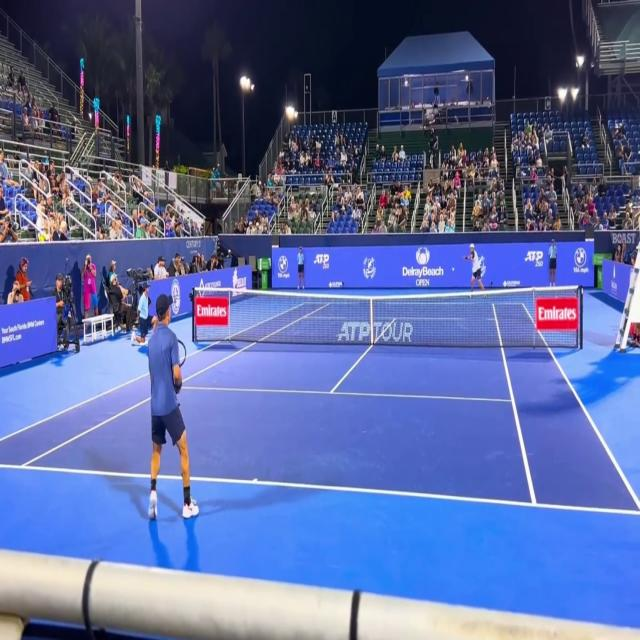tennisBall: (450, 261, 457, 278)
